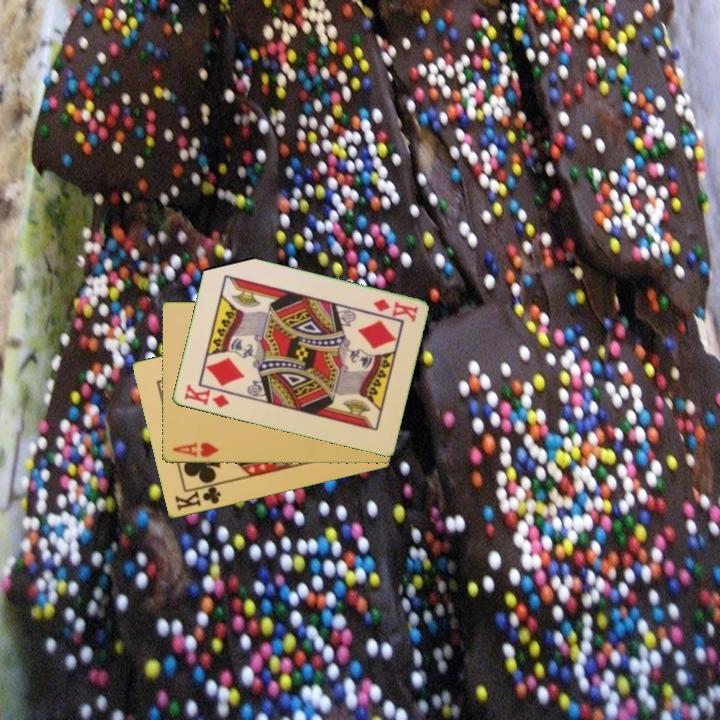Ah: (169, 439, 221, 460)
Kc: (171, 481, 224, 514)
Kd: (180, 381, 232, 411), (369, 296, 420, 324)
